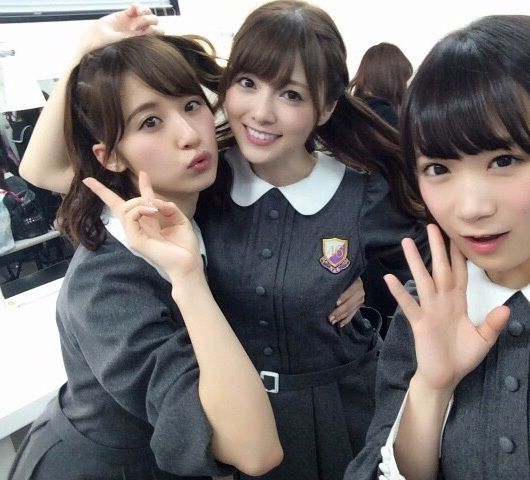face: (415, 91, 530, 274), (92, 67, 219, 185), (227, 43, 340, 164)
hand: (383, 223, 511, 387), (81, 170, 204, 269), (87, 2, 161, 39)
